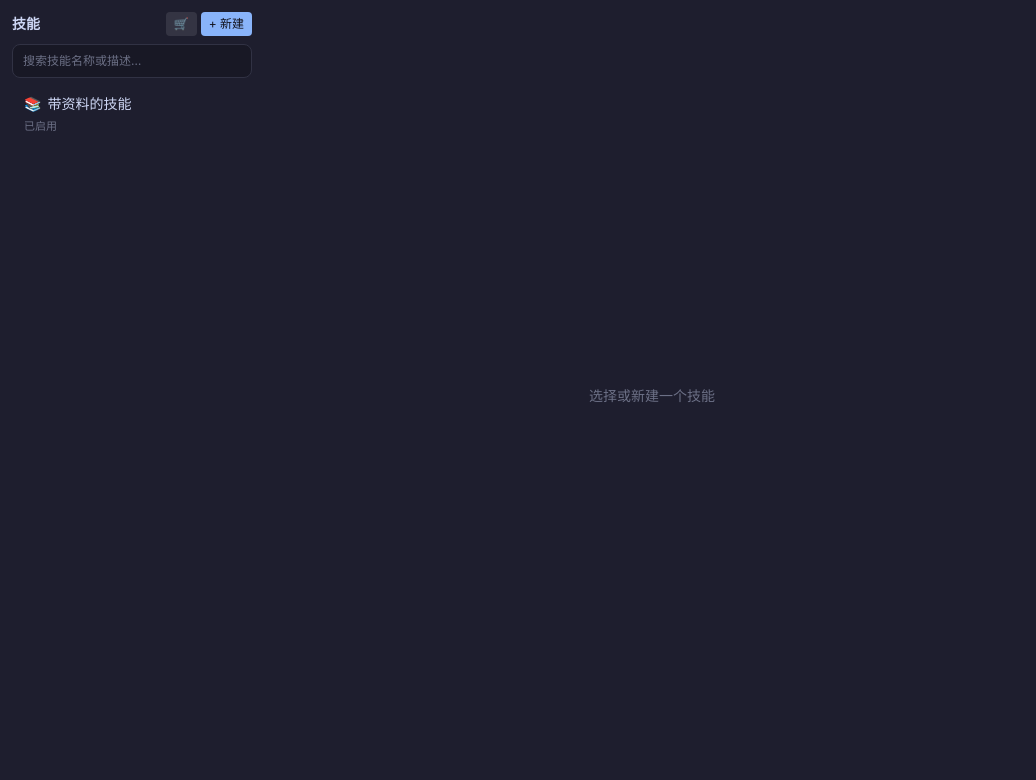
技能资源预览 › 读文件失败时显示错误而不是空白模态
The width and height of the screenshot is (1036, 780).
Click the text "带资料的技能" at [90, 104], box [48,94,132,114]
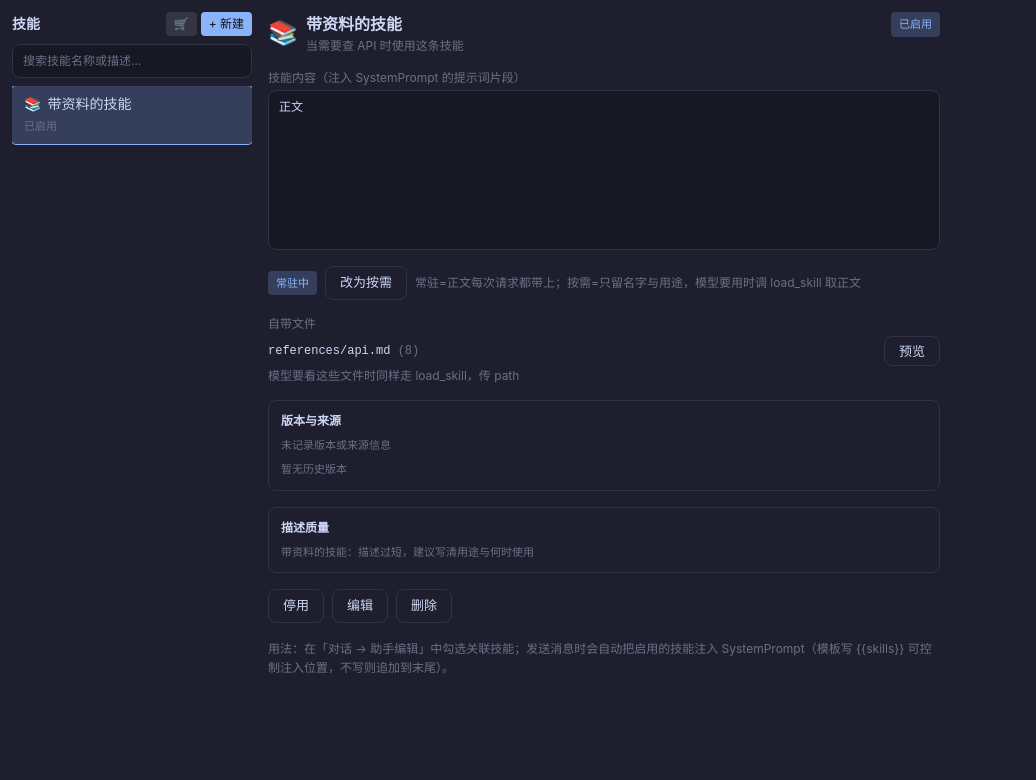
Expected: the list with test id "skill-files-list" is shown, [268,336,940,384]
Click the button with test id "skill-file-preview" at [912, 350], box [884,336,940,366]
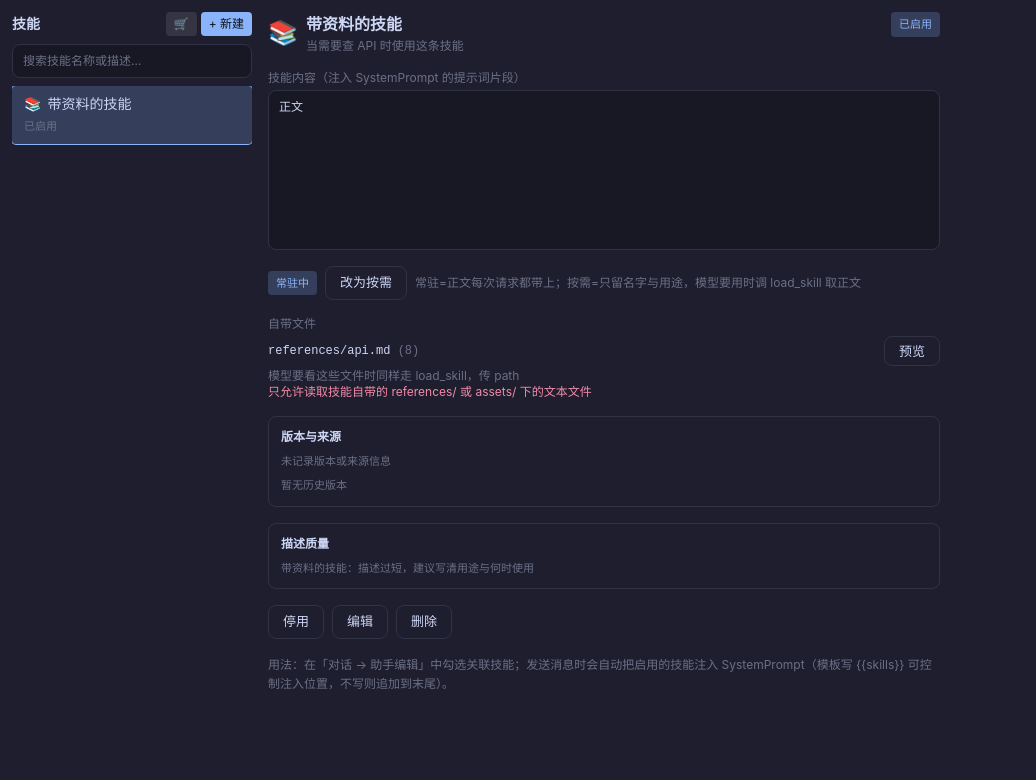
Expected: the text "只允许读取技能自带的 references/ 或 assets/ 下的文本文件" is shown, [268,384,592,398]
